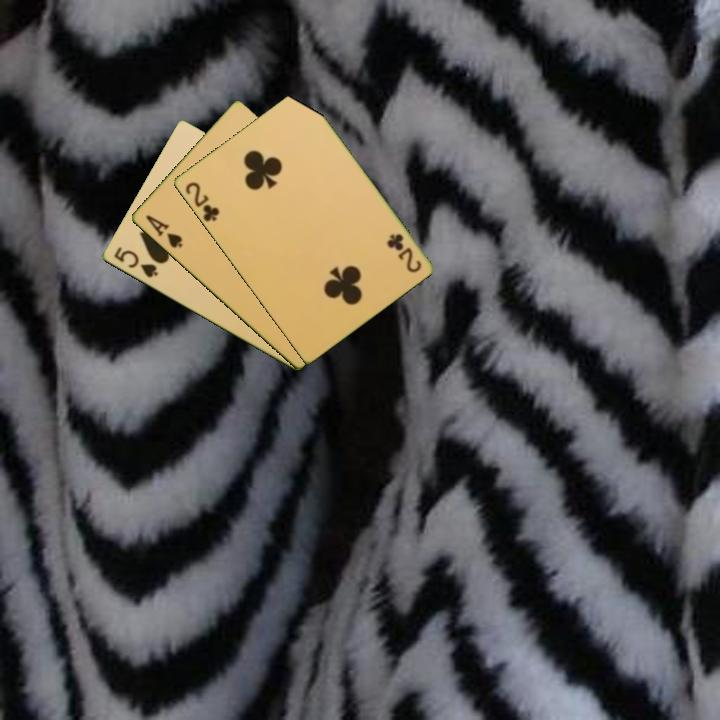2c: (181, 178, 222, 225), (384, 230, 424, 276)
5s: (110, 243, 161, 281)
As: (142, 211, 185, 251)
